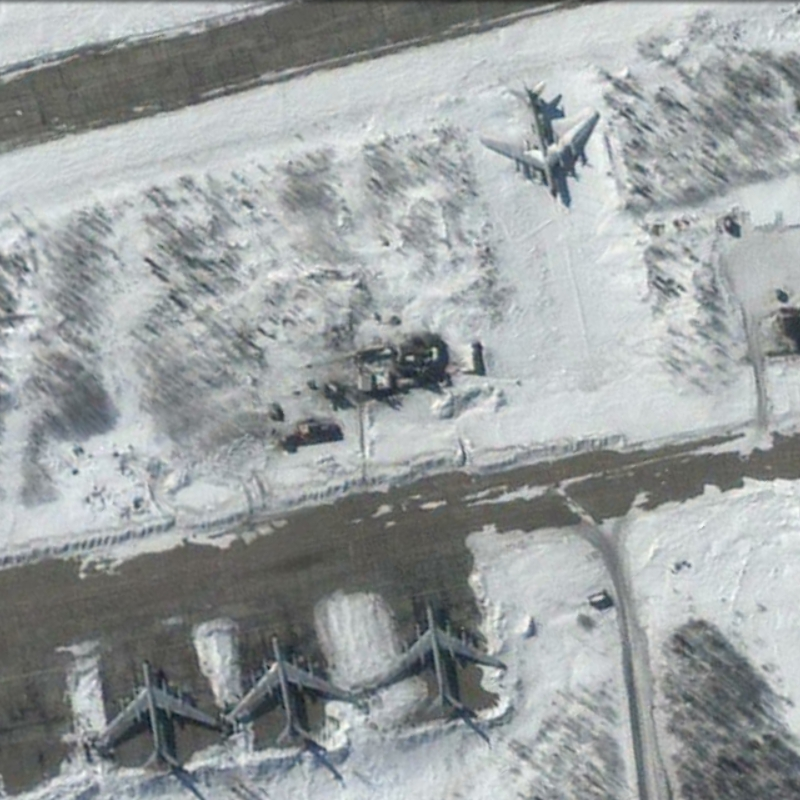A17: (225, 627, 358, 750), (375, 600, 510, 720), (95, 654, 220, 778), (479, 82, 601, 205)
